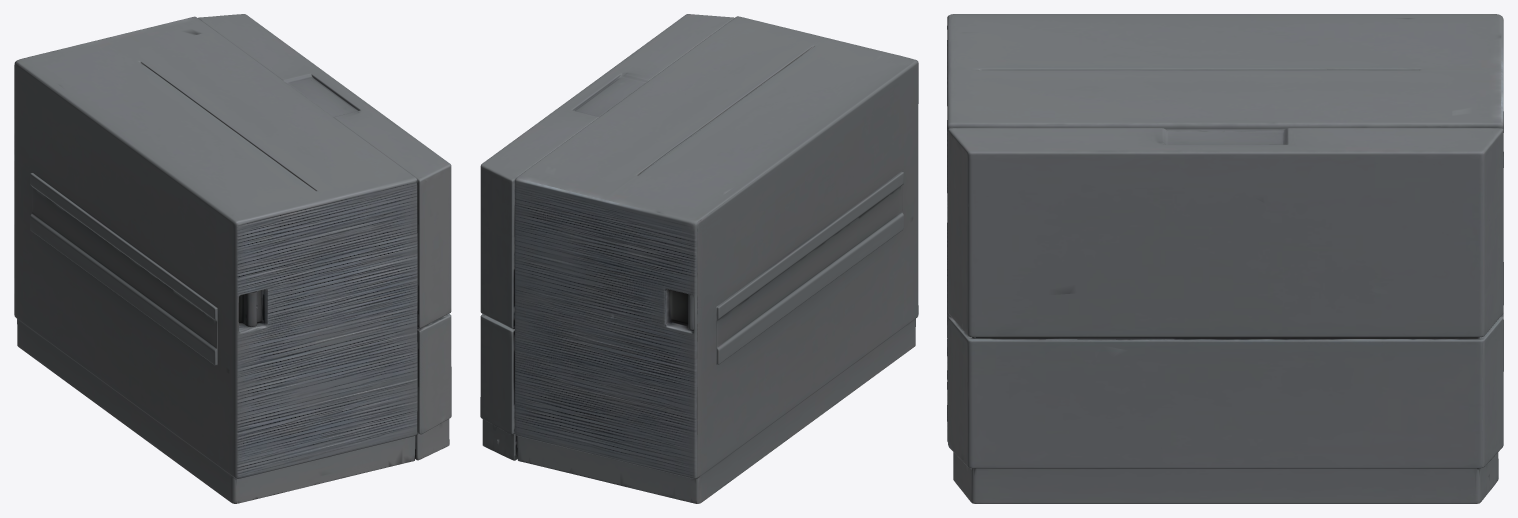
The model's file is Large-Capacitor-LC10.glb.
3 renders of one model, left to right at view 1: azimuth 30°, elevation 25°; view 2: azimuth 150°, elevation 25°; view 3: azimuth 270°, elevation 25°, orthographic. The views are drawn at different scales.
Parts seen in each view (by area): view 1: node_0; view 2: node_0; view 3: node_0.
Part boxes in pixels (x1,y1,x2,y2): node_0: (14,14,451,503); node_0: (480,14,918,503); node_0: (947,14,1503,503).
Size of the model in its own units: 0.375 by 0.448 by 0.6363.
1 material, 1 textured.
